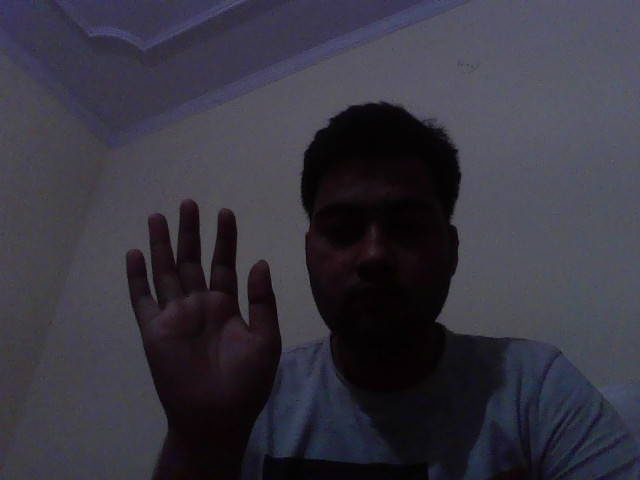Hello: (118, 185, 296, 424)
